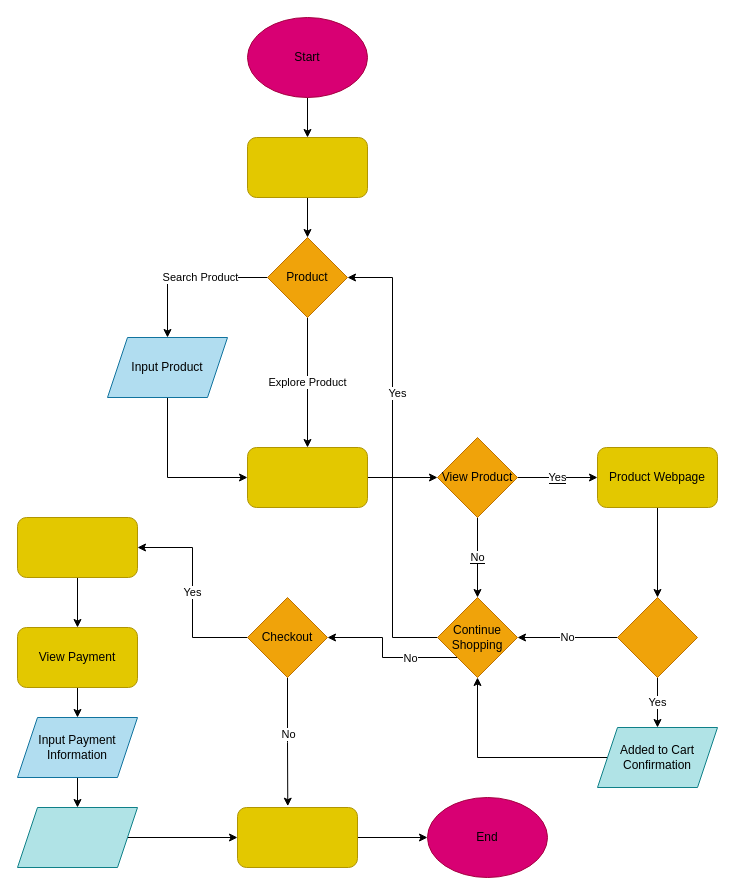
Image size: 735x895. Some labels were removed from this diagram. Each missing label, with the centre of its shape:
Add Item to Cart: the point at 657,637
Enter Website: the point at 307,167
Leave Website: the point at 297,837
Look for Product: the point at 307,477
Order Confirmation and Email: the point at 77,837
View Cart: the point at 77,547
